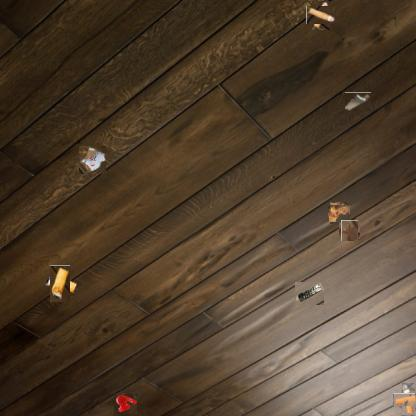dirty: (46, 270, 75, 298), (78, 146, 106, 174), (294, 281, 324, 305), (309, 4, 333, 27), (345, 92, 371, 111), (397, 388, 416, 410), (329, 203, 349, 223)
liquid: (114, 393, 136, 415), (340, 221, 359, 240)
